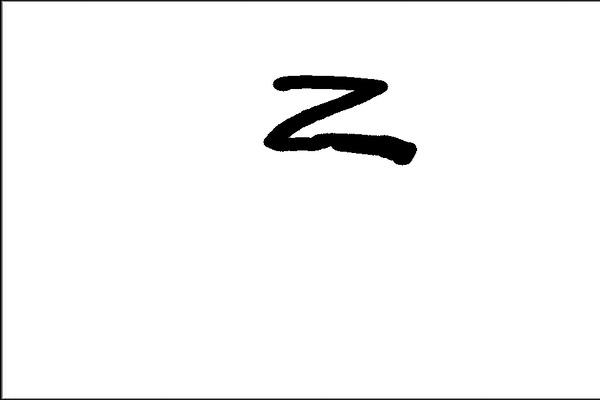Z: (258, 67, 420, 171)
